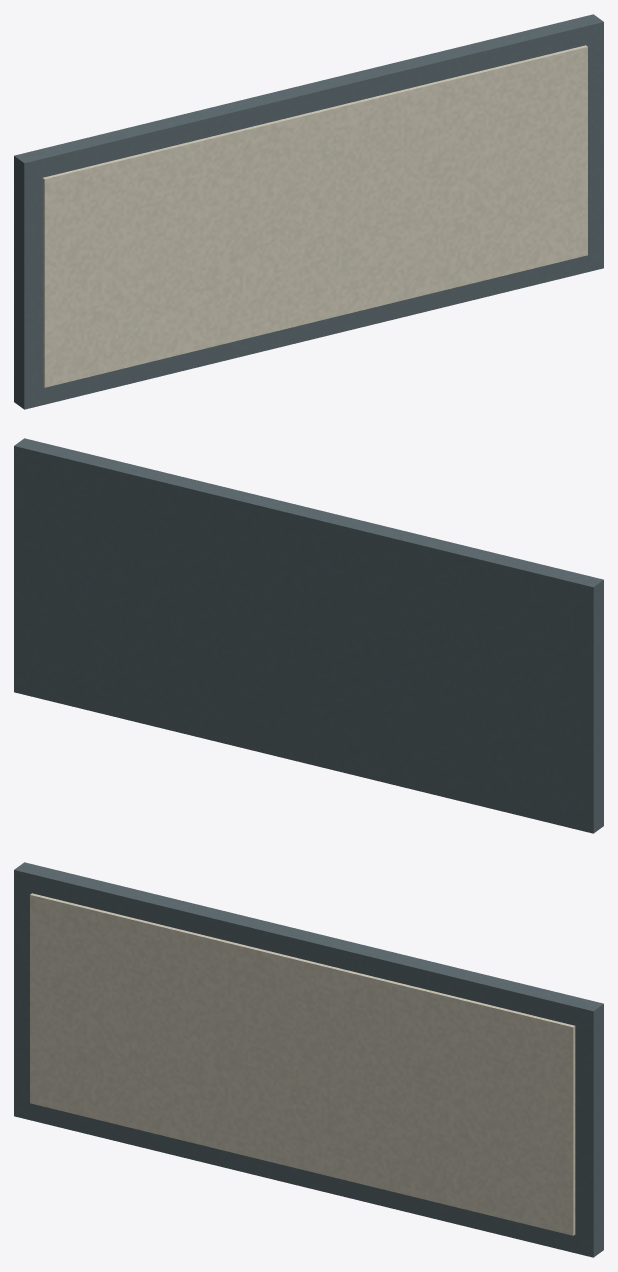
Rendered from blank-signboard.glb.
The picture shows the model from 3 angles, top to bottom: view 1: azimuth 30°, elevation 25°; view 2: azimuth 150°, elevation 25°; view 3: azimuth 330°, elevation 25°; orthographic projection.
Size of the model in its own units: 3.2 by 1.3 by 0.12.
Materials: 2 (2 with a texture image).
